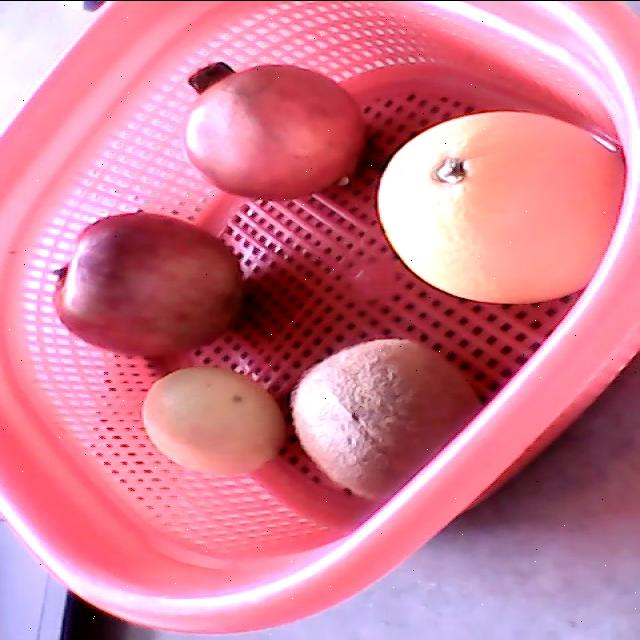apple: (53, 209, 244, 358)
kiwi: (289, 337, 483, 501)
lemon: (142, 365, 286, 476)
orange: (376, 110, 625, 304)
pomegranate: (183, 61, 367, 202)
